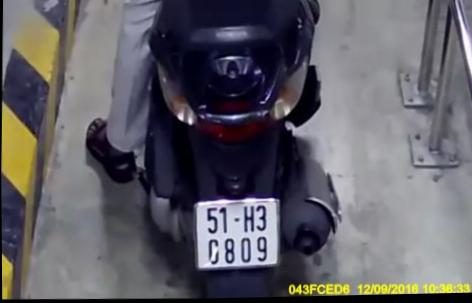LP: (191, 194, 282, 273)
